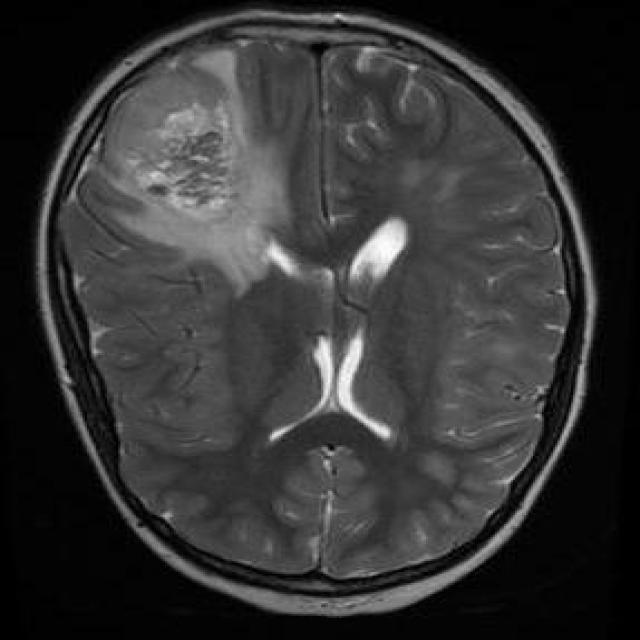brain tumor: (105, 61, 245, 224)
